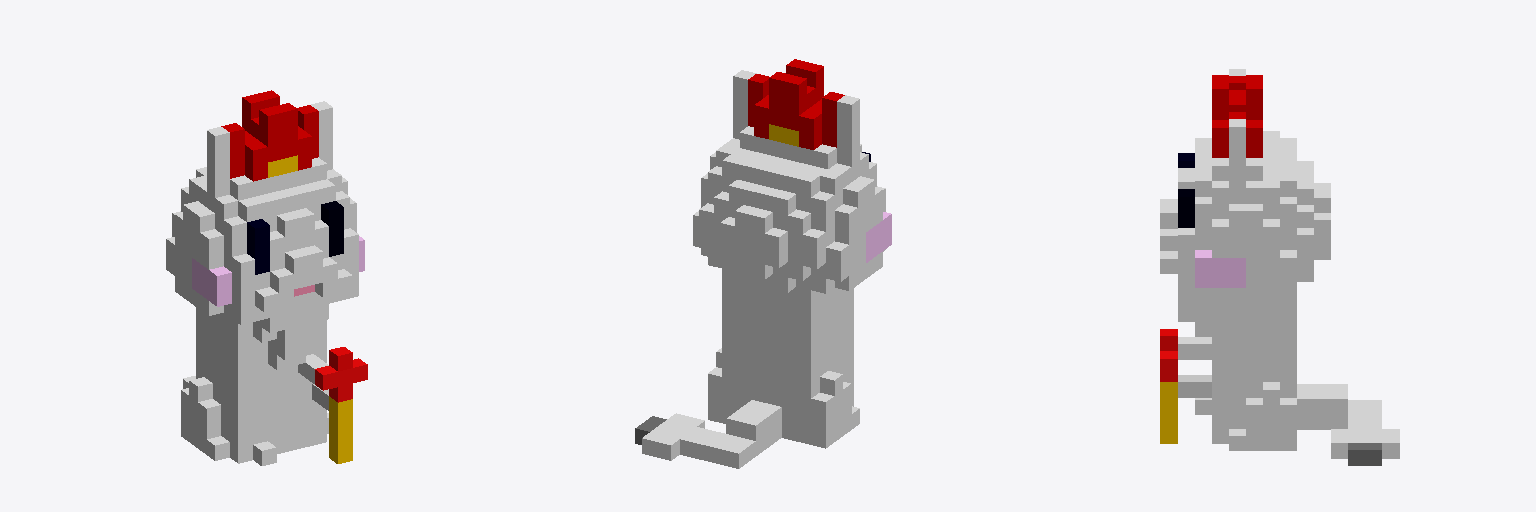
3 renders of one model, left to right at view 1: azimuth 30°, elevation 25°; view 2: azimuth 150°, elevation 25°; view 3: azimuth 270°, elevation 25°, orthographic.
Parts seen in each view (by area): view 1: object 1; view 2: object 1; view 3: object 1.
Boxes of the visible parts, <box> form: object 1: <box>166,90,367,465</box>; object 1: <box>635,59,891,468</box>; object 1: <box>1160,69,1399,465</box>.
Bounding box in the file's own units: 1.1 × 2.2 × 1.4.
Materials: 1 (1 with a texture image).